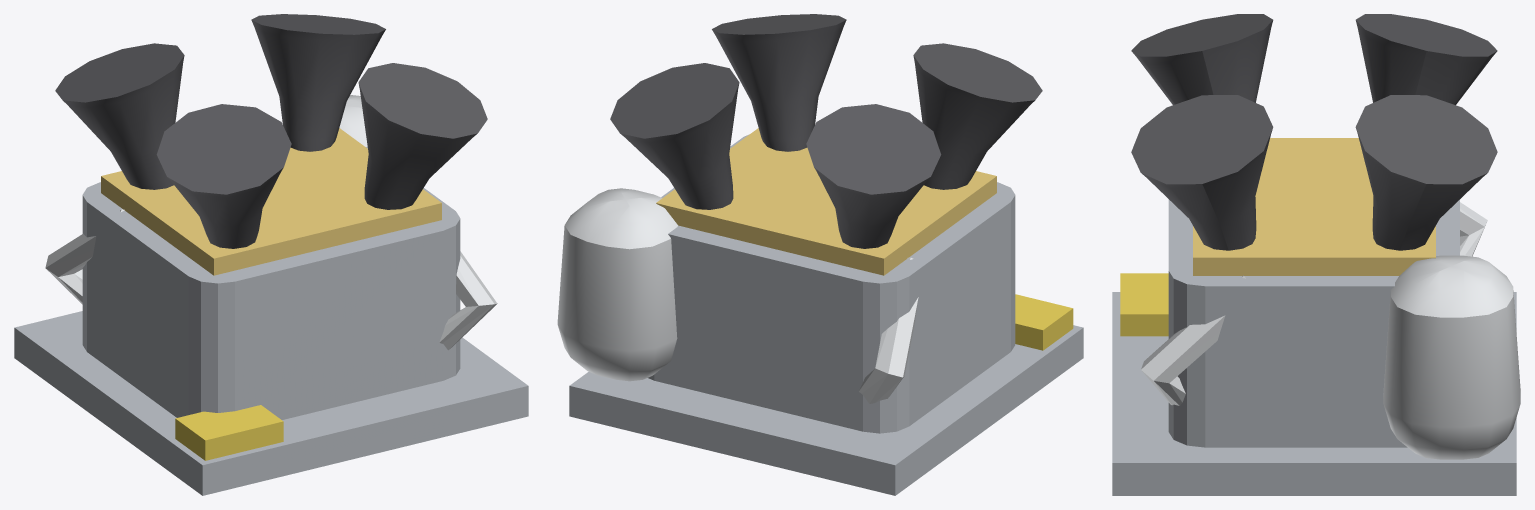
The model's file is orbital-station-and-docking-bays-thruster-quad-f96b3696__24562.glb.
3 views of the same model, side by side, from view 1: azimuth 30°, elevation 25°; view 2: azimuth 150°, elevation 25°; view 3: azimuth 270°, elevation 25° (orthographic). The views are drawn at different scales.
Visible parts, largest first — view 1: thruster-quad; view 2: thruster-quad; view 3: thruster-quad.
Boxes of the visible parts, x1,y1,x2,y2 form: thruster-quad: (14,14,528,495); thruster-quad: (557,14,1083,495); thruster-quad: (1112,14,1520,495).
Bounding box in the file's own units: 1.09 × 0.9341 × 1.01.
